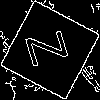Z: (25, 25, 78, 68)
